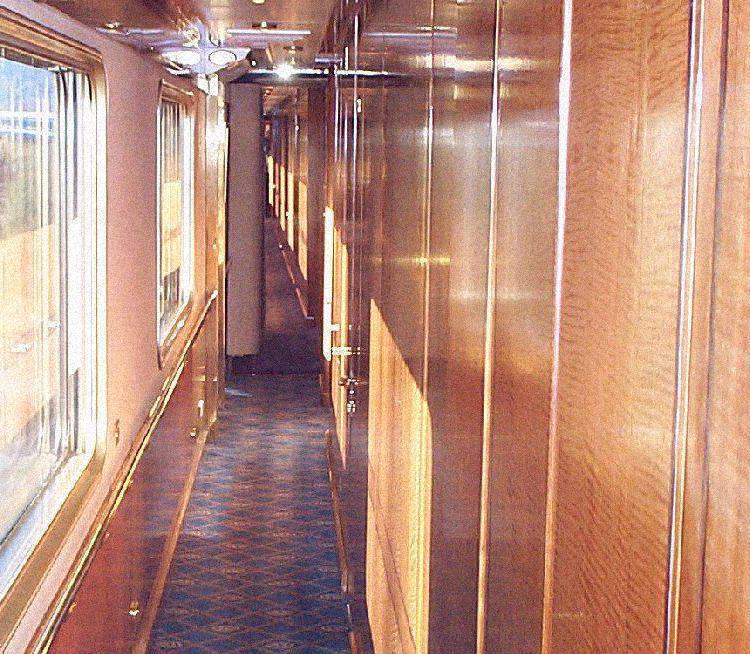Puerta: (340, 89, 375, 580)
